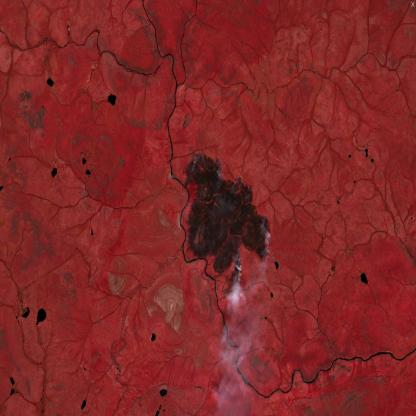fire: (179, 148, 273, 290)
